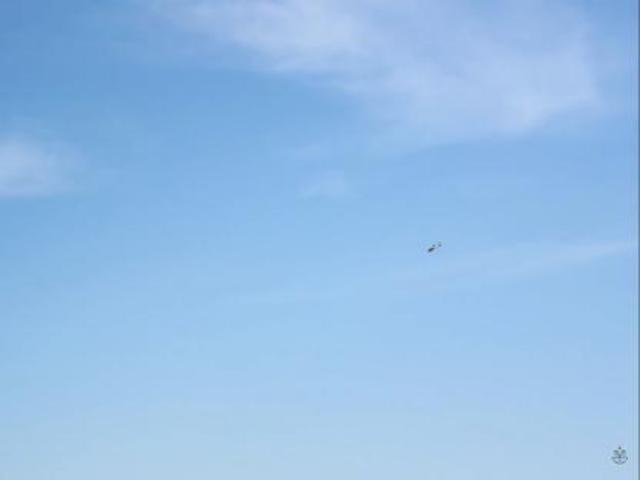uav: (424, 232, 445, 256)
